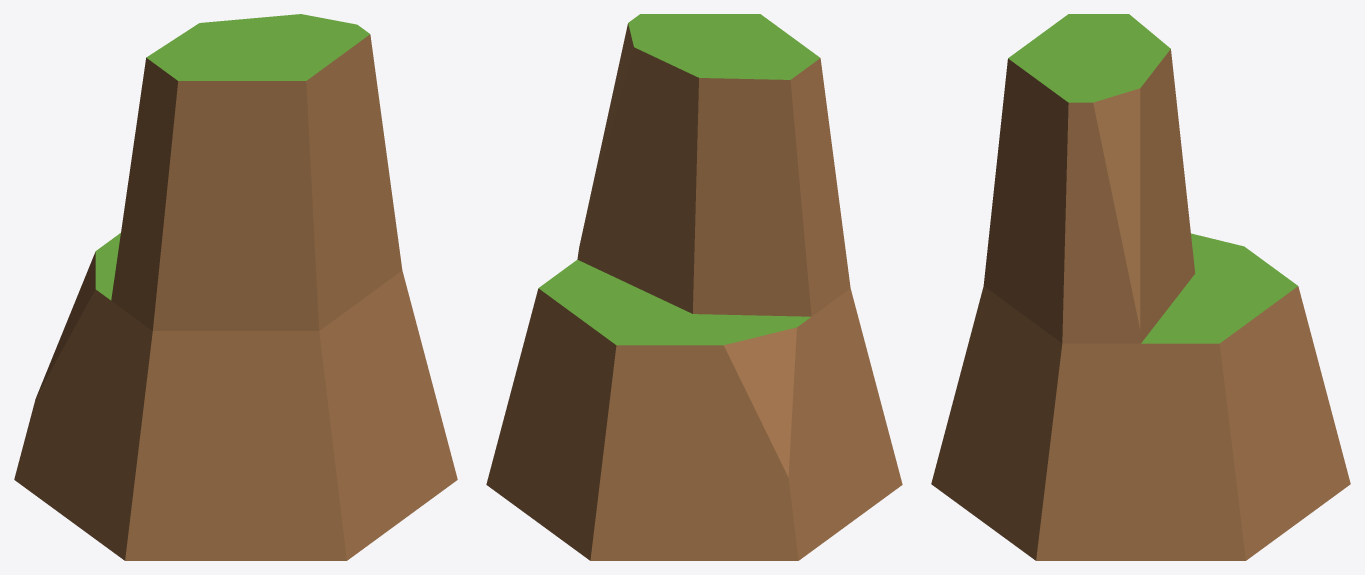
File: rock_tallF.glb
3 renders of one model, left to right at view 1: azimuth 30°, elevation 25°; view 2: azimuth 150°, elevation 25°; view 3: azimuth 270°, elevation 25°, orthographic. The views are drawn at different scales.
Parts seen in each view (by area): view 1: rock_tallF; view 2: rock_tallF; view 3: rock_tallF.
Part boxes in pixels (x1=…): rock_tallF: x1=14, y1=14, x2=457, y2=560; rock_tallF: x1=486, y1=14, x2=902, y2=560; rock_tallF: x1=931, y1=14, x2=1350, y2=560.
Bounding box in the file's own units: 0.4437 × 0.5737 × 0.5123.
